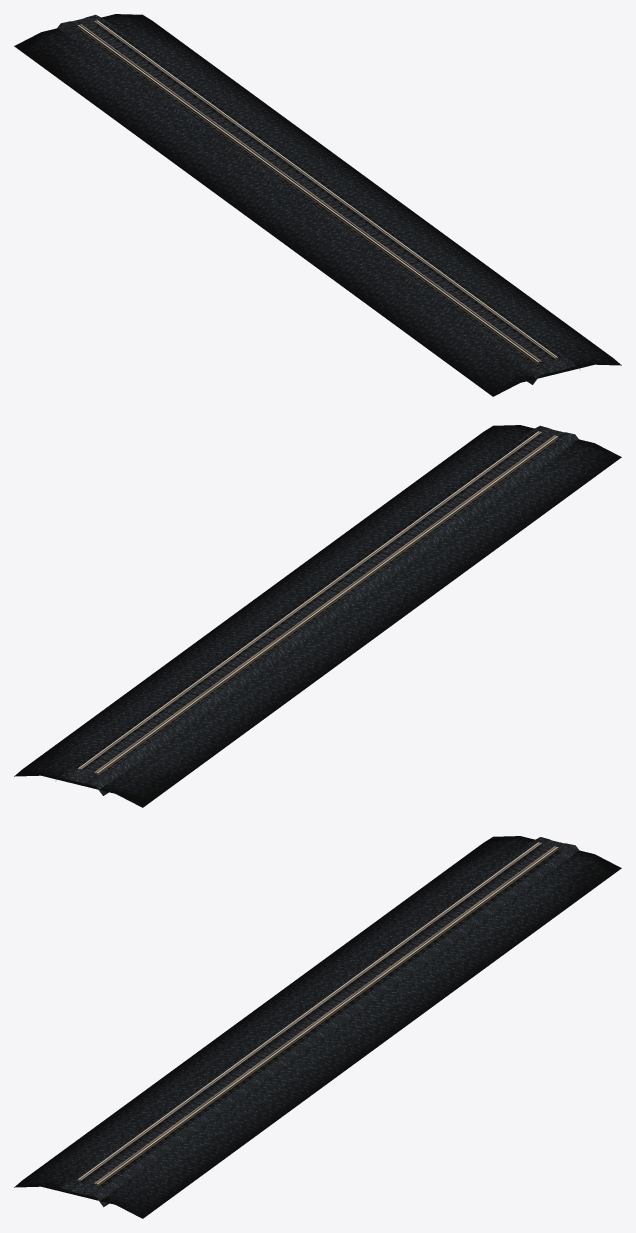
The model's file is SIN_1RAIL_150_JIMEN.glb.
The picture shows the model from 3 angles, top to bottom: view 1: azimuth 30°, elevation 25°; view 2: azimuth 150°, elevation 25°; view 3: azimuth 330°, elevation 25°; orthographic projection.
Visible parts, largest first — view 1: obj4, R000_RG_R3, R000_RG_L3; view 2: obj4, R000_RG_R3, R000_RG_L3; view 3: obj4, R000_RG_L3, R000_RG_R3.
Part boxes in pixels (x1,y1,x2,y2): obj4: (14, 14, 621, 396); R000_RG_R3: (80, 24, 541, 362); R000_RG_L3: (94, 20, 555, 358); obj4: (14, 425, 621, 807); R000_RG_R3: (94, 435, 555, 773); R000_RG_L3: (80, 431, 541, 769); obj4: (14, 836, 621, 1218); R000_RG_L3: (94, 846, 555, 1184); R000_RG_R3: (80, 842, 541, 1180).
Size of the model in its own units: 24.42 by 2.65 by 156.
6 materials, 5 textured.
